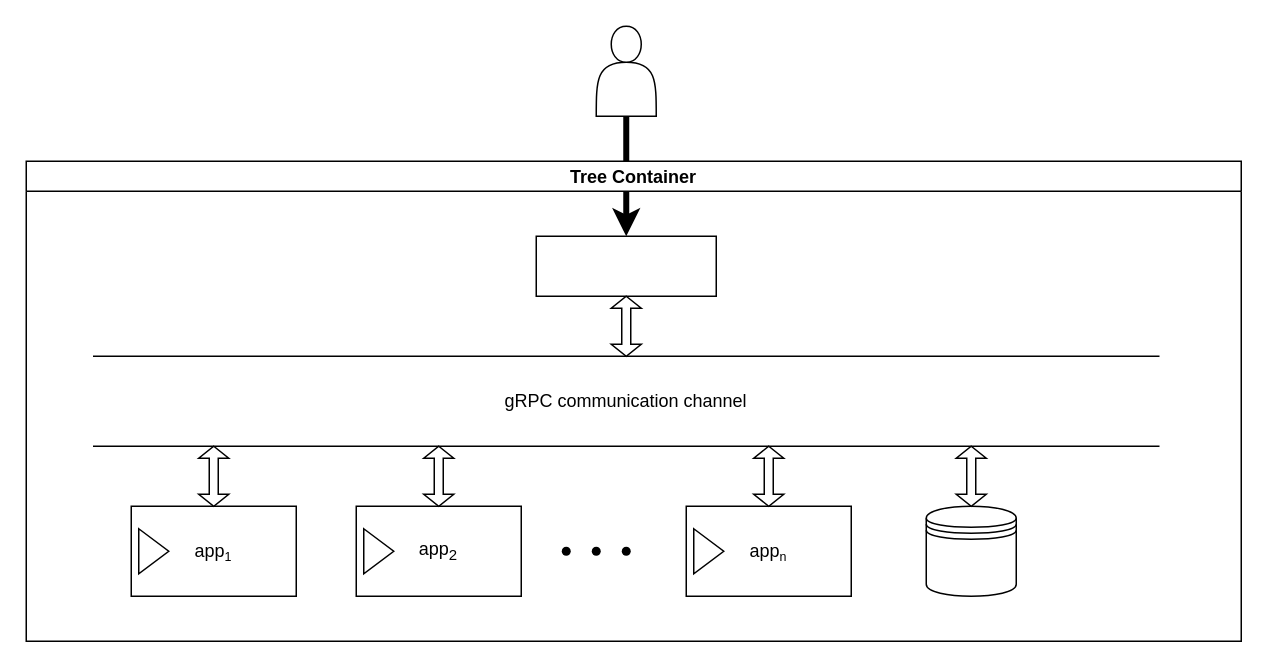
Image size: 1268x668. Some labels were removed from this diagram. Here are the shapes that lost their labels. From the top down, the box of each, then its label:
(535, 235, 716, 296): System Manager
(925, 505, 1016, 596): db
